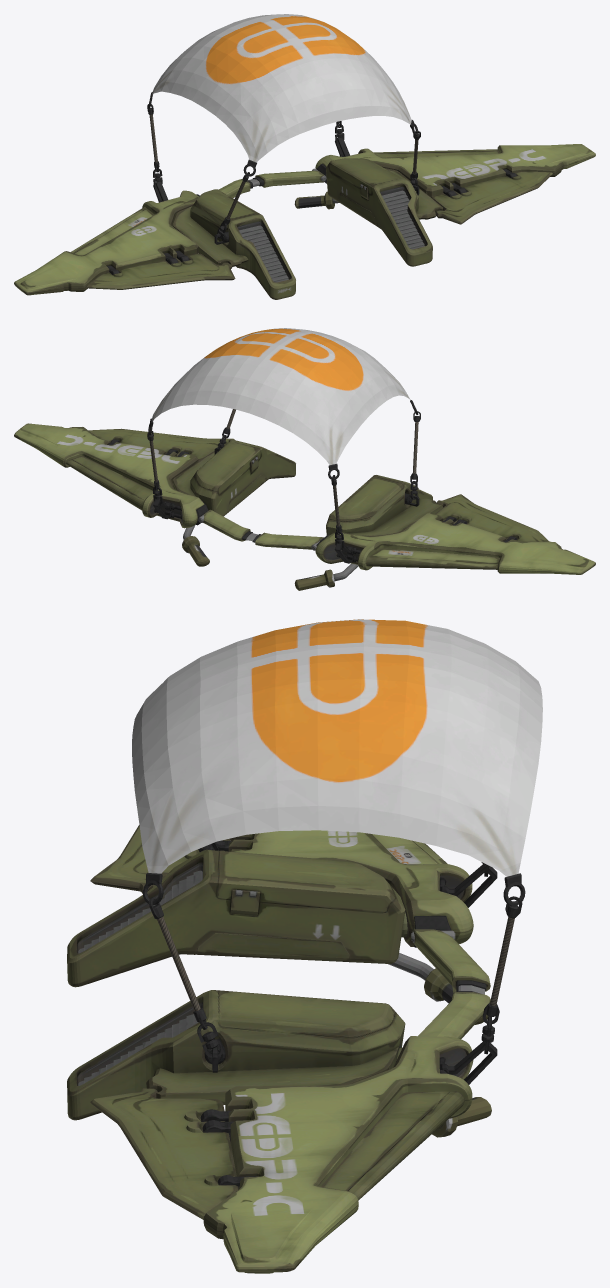
The model's file is glider_static.glb.
The picture shows the model from 3 angles, top to bottom: view 1: azimuth 30°, elevation 25°; view 2: azimuth 150°, elevation 25°; view 3: azimuth 270°, elevation 25°; orthographic projection. The views are drawn at different scales.
Parts seen in each view (by area): view 1: Glider_Mark_II.mo; view 2: Glider_Mark_II.mo; view 3: Glider_Mark_II.mo.
Boxes of the visible parts, left/top/right/bottom form: Glider_Mark_II.mo: left=14, top=14, right=595, bottom=299; Glider_Mark_II.mo: left=14, top=328, right=595, bottom=590; Glider_Mark_II.mo: left=67, top=619, right=542, bottom=1273.
Bounding box in the file's own units: 3 × 1.07 × 1.08.
Materials: 1 (1 with a texture image).
